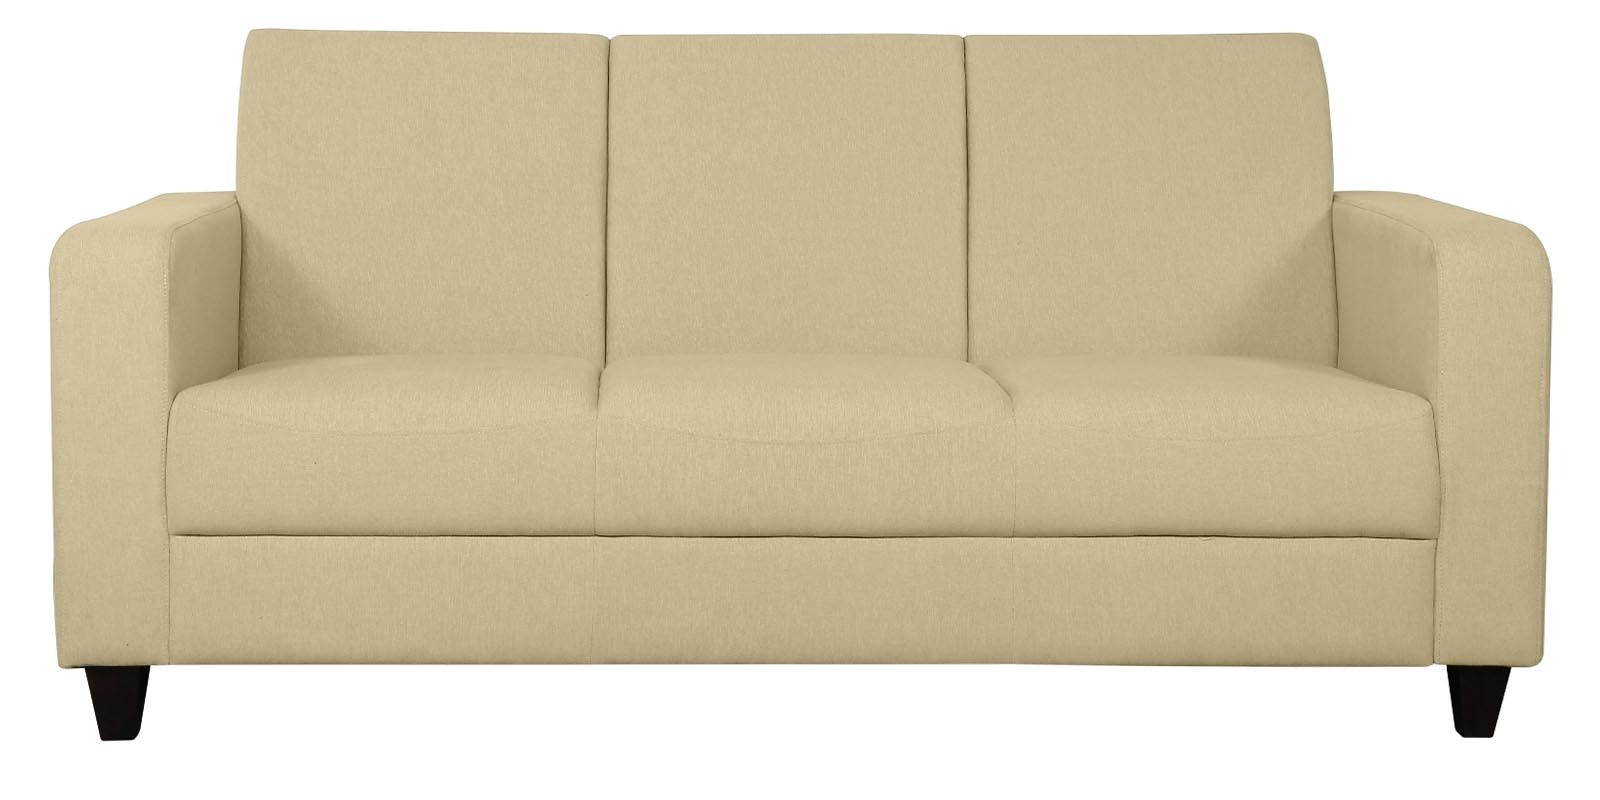Alba Three Seater Sofa in Beige Colour by CasaCraft: (46, 22, 1551, 746)
